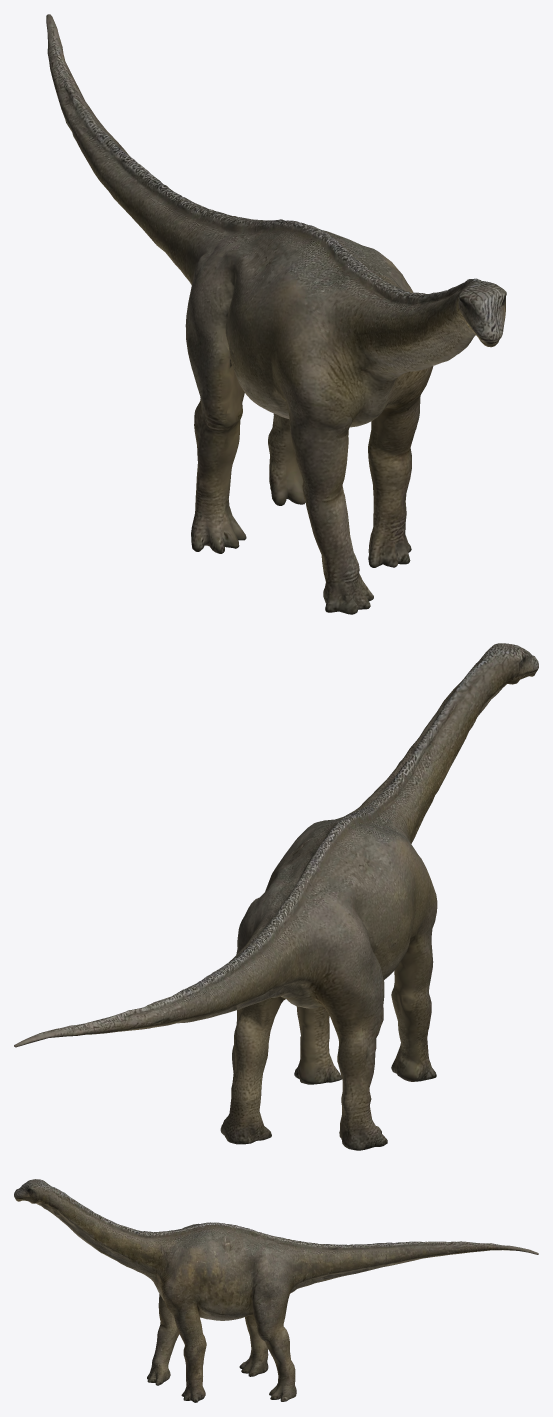
File: diplodocus.glb
The picture shows the model from 3 angles, top to bottom: view 1: azimuth 30°, elevation 25°; view 2: azimuth 150°, elevation 25°; view 3: azimuth 270°, elevation 25°; orthographic projection. The views are drawn at different scales.
Visible parts, largest first — view 1: dino; view 2: dino; view 3: dino.
Part boxes in pixels (x1=…): dino: x1=46, y1=14, x2=506, y2=614; dino: x1=14, y1=643, x2=538, y2=1150; dino: x1=14, y1=1179, x2=538, y2=1402.
Bounding box in the file's own units: 4.76 × 11.08 × 26.
1 material, 1 textured.
